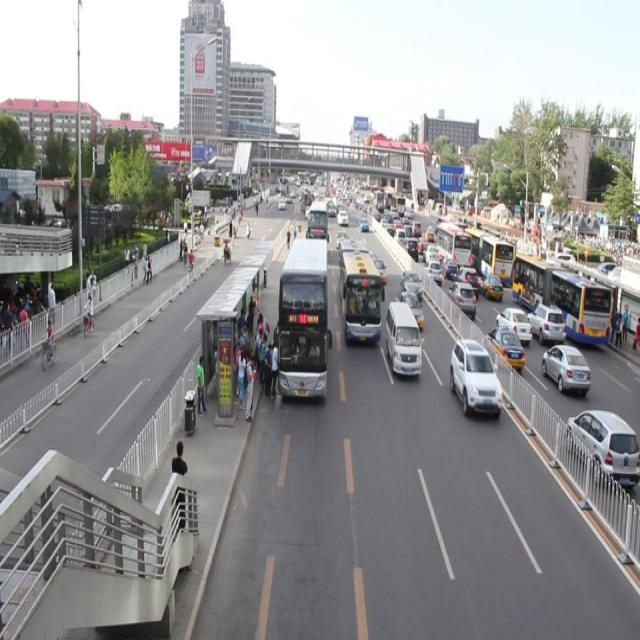car: (450, 337, 499, 417), (397, 291, 421, 330), (400, 270, 420, 300), (369, 255, 386, 284), (335, 230, 349, 250), (337, 208, 348, 228), (304, 203, 314, 219), (327, 200, 336, 216), (358, 218, 367, 230)
truck: (387, 300, 420, 378)
van: (280, 237, 326, 401), (338, 238, 379, 343), (307, 198, 327, 244)
